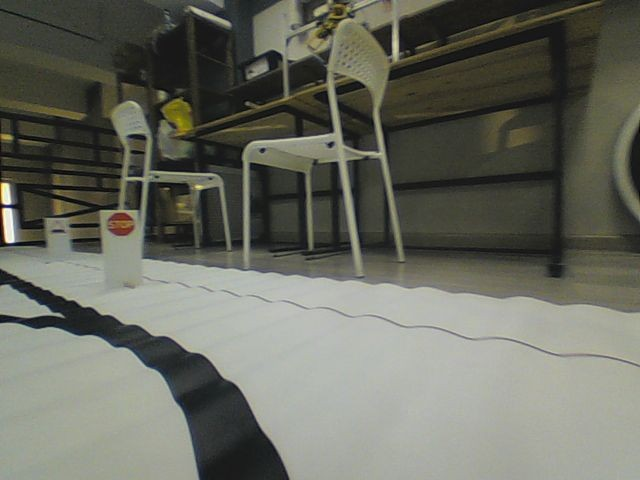Stop: (105, 211, 136, 238)
